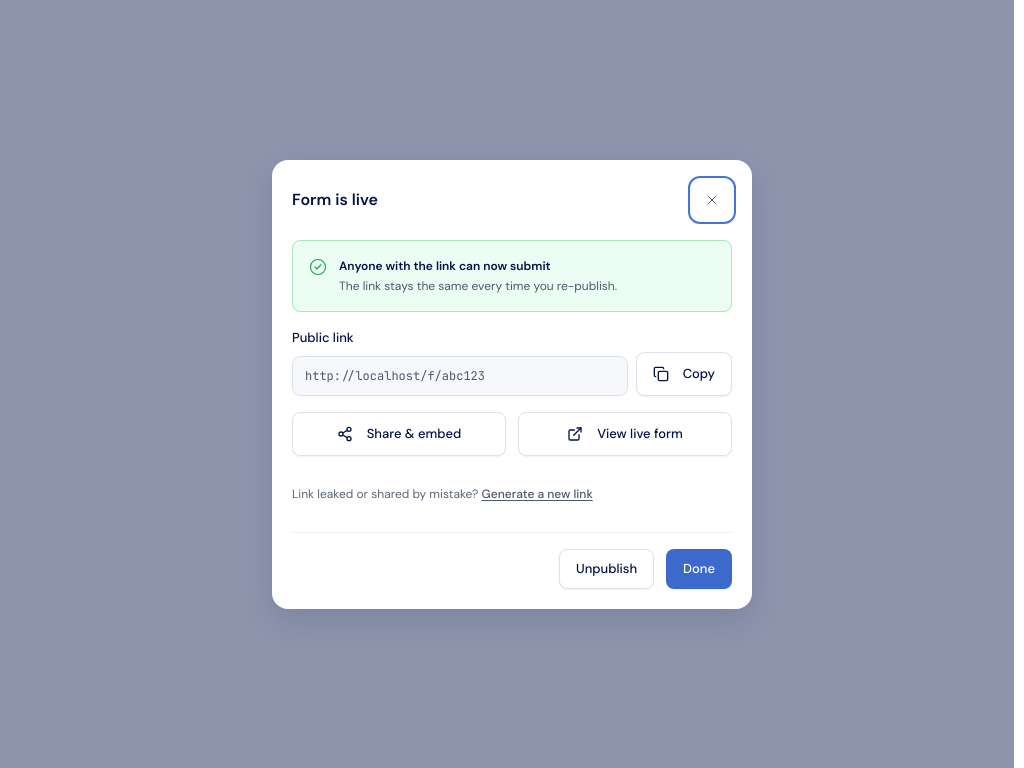
Test case: PublishModal: live › generating a new link needs an explicit confirmation, and can be backed out of
This screenshot has width=1024, height=768.
What coordinates should you click on to do the following:
click the button "Generate a new link"
I would click on:
 (537, 494)
Its box is [482,472,593,516].
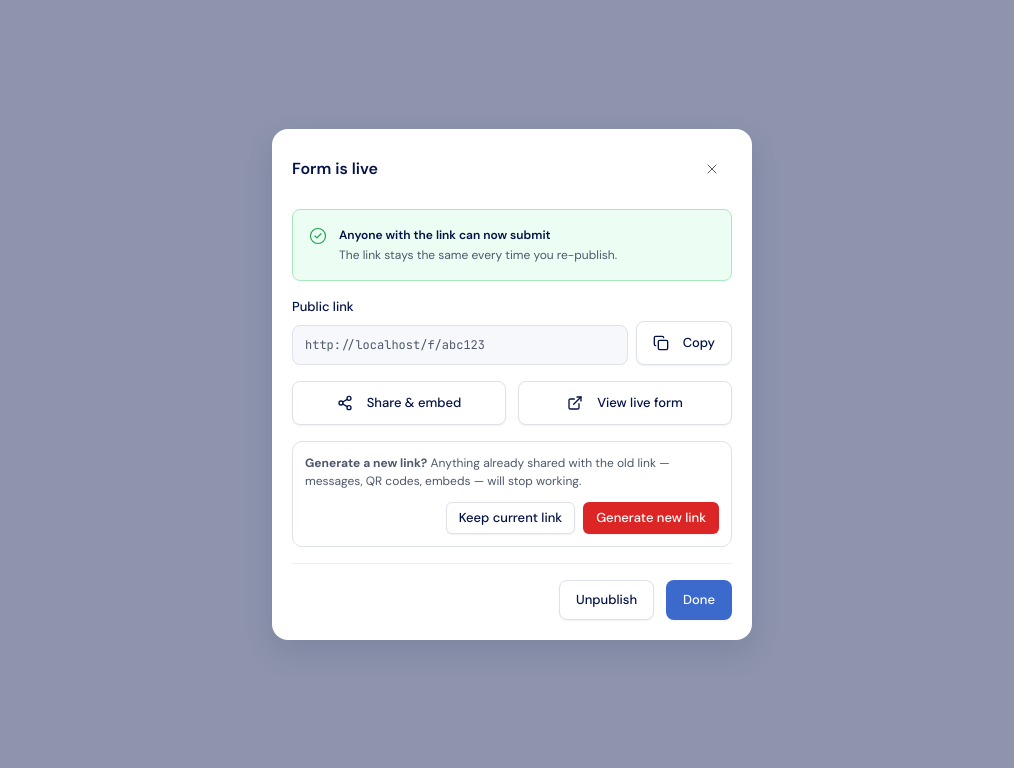
Expected: the text "Anything already shared with the old link" is shown, [305,454,670,488]
What coordinates should you click on to do the following:
click the button "Keep current link"
I would click on:
 (510, 518)
Its box is [446,502,575,534].
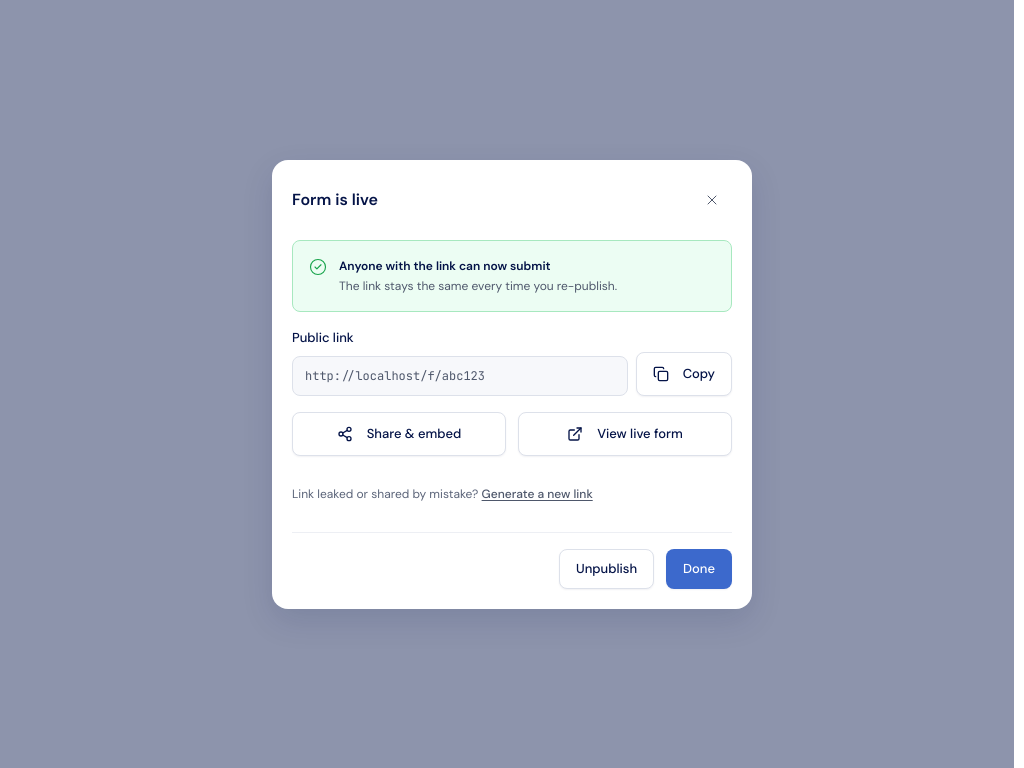
Expected: the text "Anything already shared" is gone
